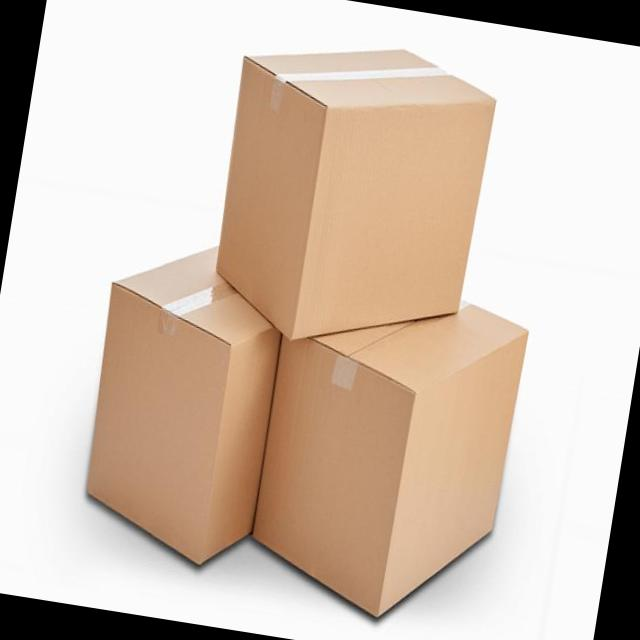box: (250, 298, 530, 619), (216, 49, 497, 341), (86, 245, 283, 567)
